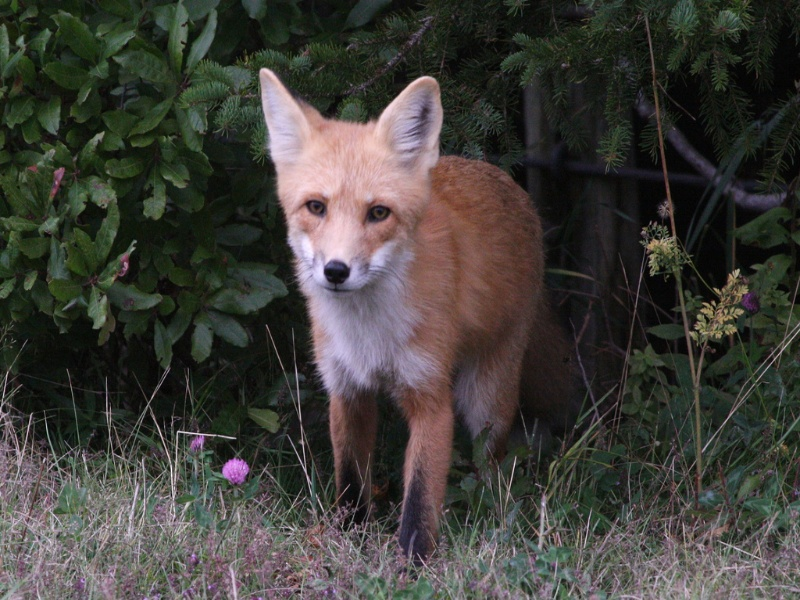fox: (253, 62, 590, 560)
